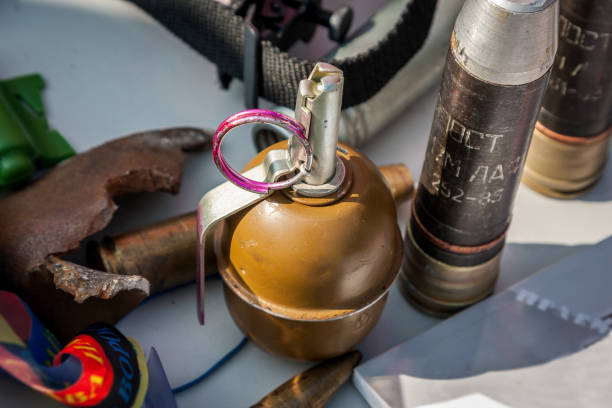e1: (191, 67, 404, 356)
